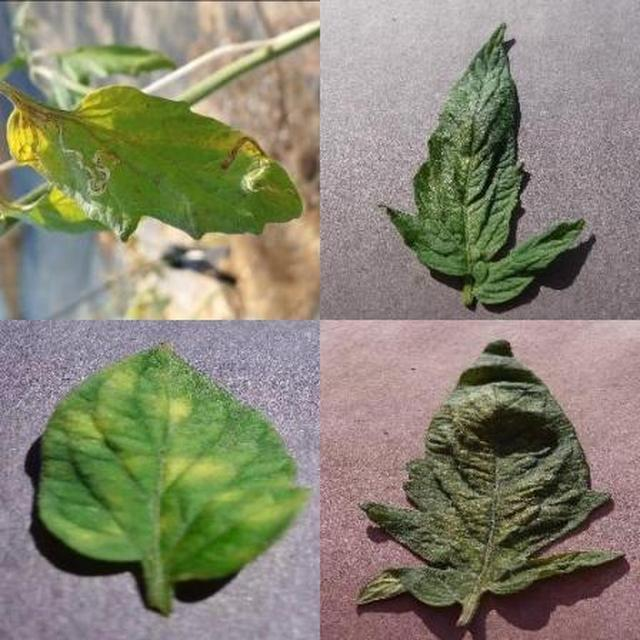Leaf Miner: (218, 231, 640, 640)
